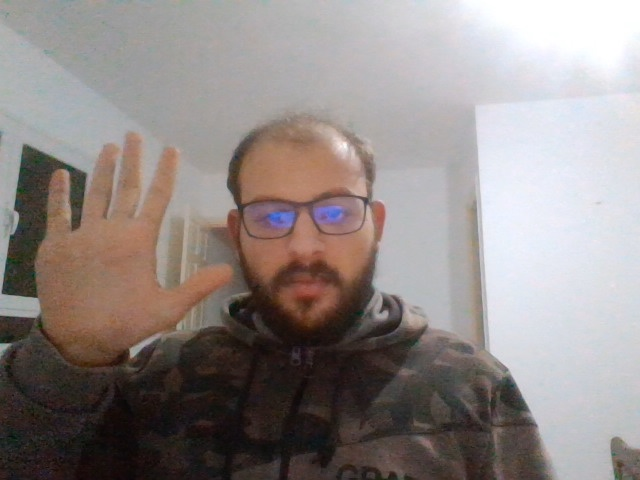Hello: (41, 135, 228, 337)
